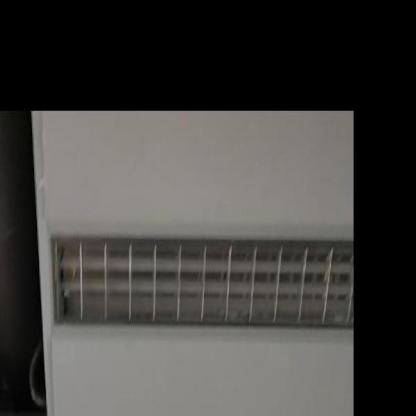light_off: (47, 190, 352, 362)
